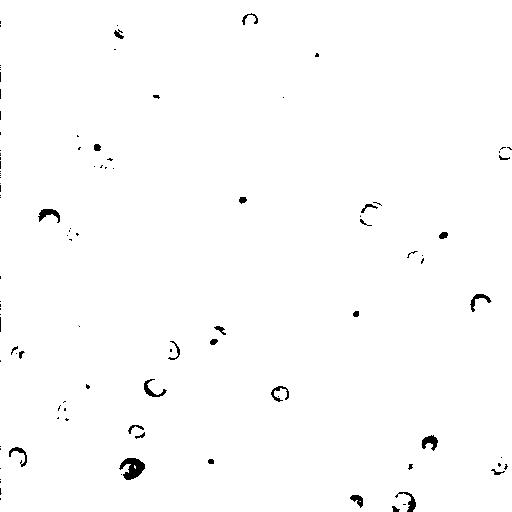micro-algae: (386, 34, 482, 134), (250, 85, 336, 169), (283, 0, 350, 64), (32, 264, 86, 317), (118, 471, 185, 512), (94, 379, 144, 430), (366, 123, 412, 174), (190, 322, 230, 361), (1, 18, 21, 82), (0, 82, 28, 127), (86, 0, 143, 22), (60, 317, 98, 348), (403, 451, 436, 484), (479, 447, 512, 479), (250, 357, 281, 388), (356, 200, 388, 230), (54, 398, 84, 430), (81, 133, 110, 163), (57, 125, 88, 153), (33, 207, 61, 236), (92, 154, 123, 180), (117, 456, 148, 482), (196, 448, 226, 474), (98, 32, 127, 58), (140, 376, 171, 399), (469, 292, 495, 319), (341, 299, 366, 326), (75, 371, 102, 395), (8, 343, 31, 370), (431, 224, 456, 248), (159, 479, 184, 502), (62, 222, 88, 244), (391, 491, 418, 512), (271, 226, 293, 251), (158, 338, 181, 361), (112, 16, 136, 38), (420, 432, 440, 457), (307, 40, 328, 63), (406, 248, 426, 269), (127, 424, 147, 444), (270, 385, 292, 403), (242, 11, 260, 31), (276, 88, 294, 108), (349, 493, 364, 511), (0, 490, 12, 512), (496, 145, 512, 161), (1, 330, 10, 358), (151, 505, 183, 512), (111, 0, 138, 8), (438, 67, 452, 81), (234, 194, 250, 206)
